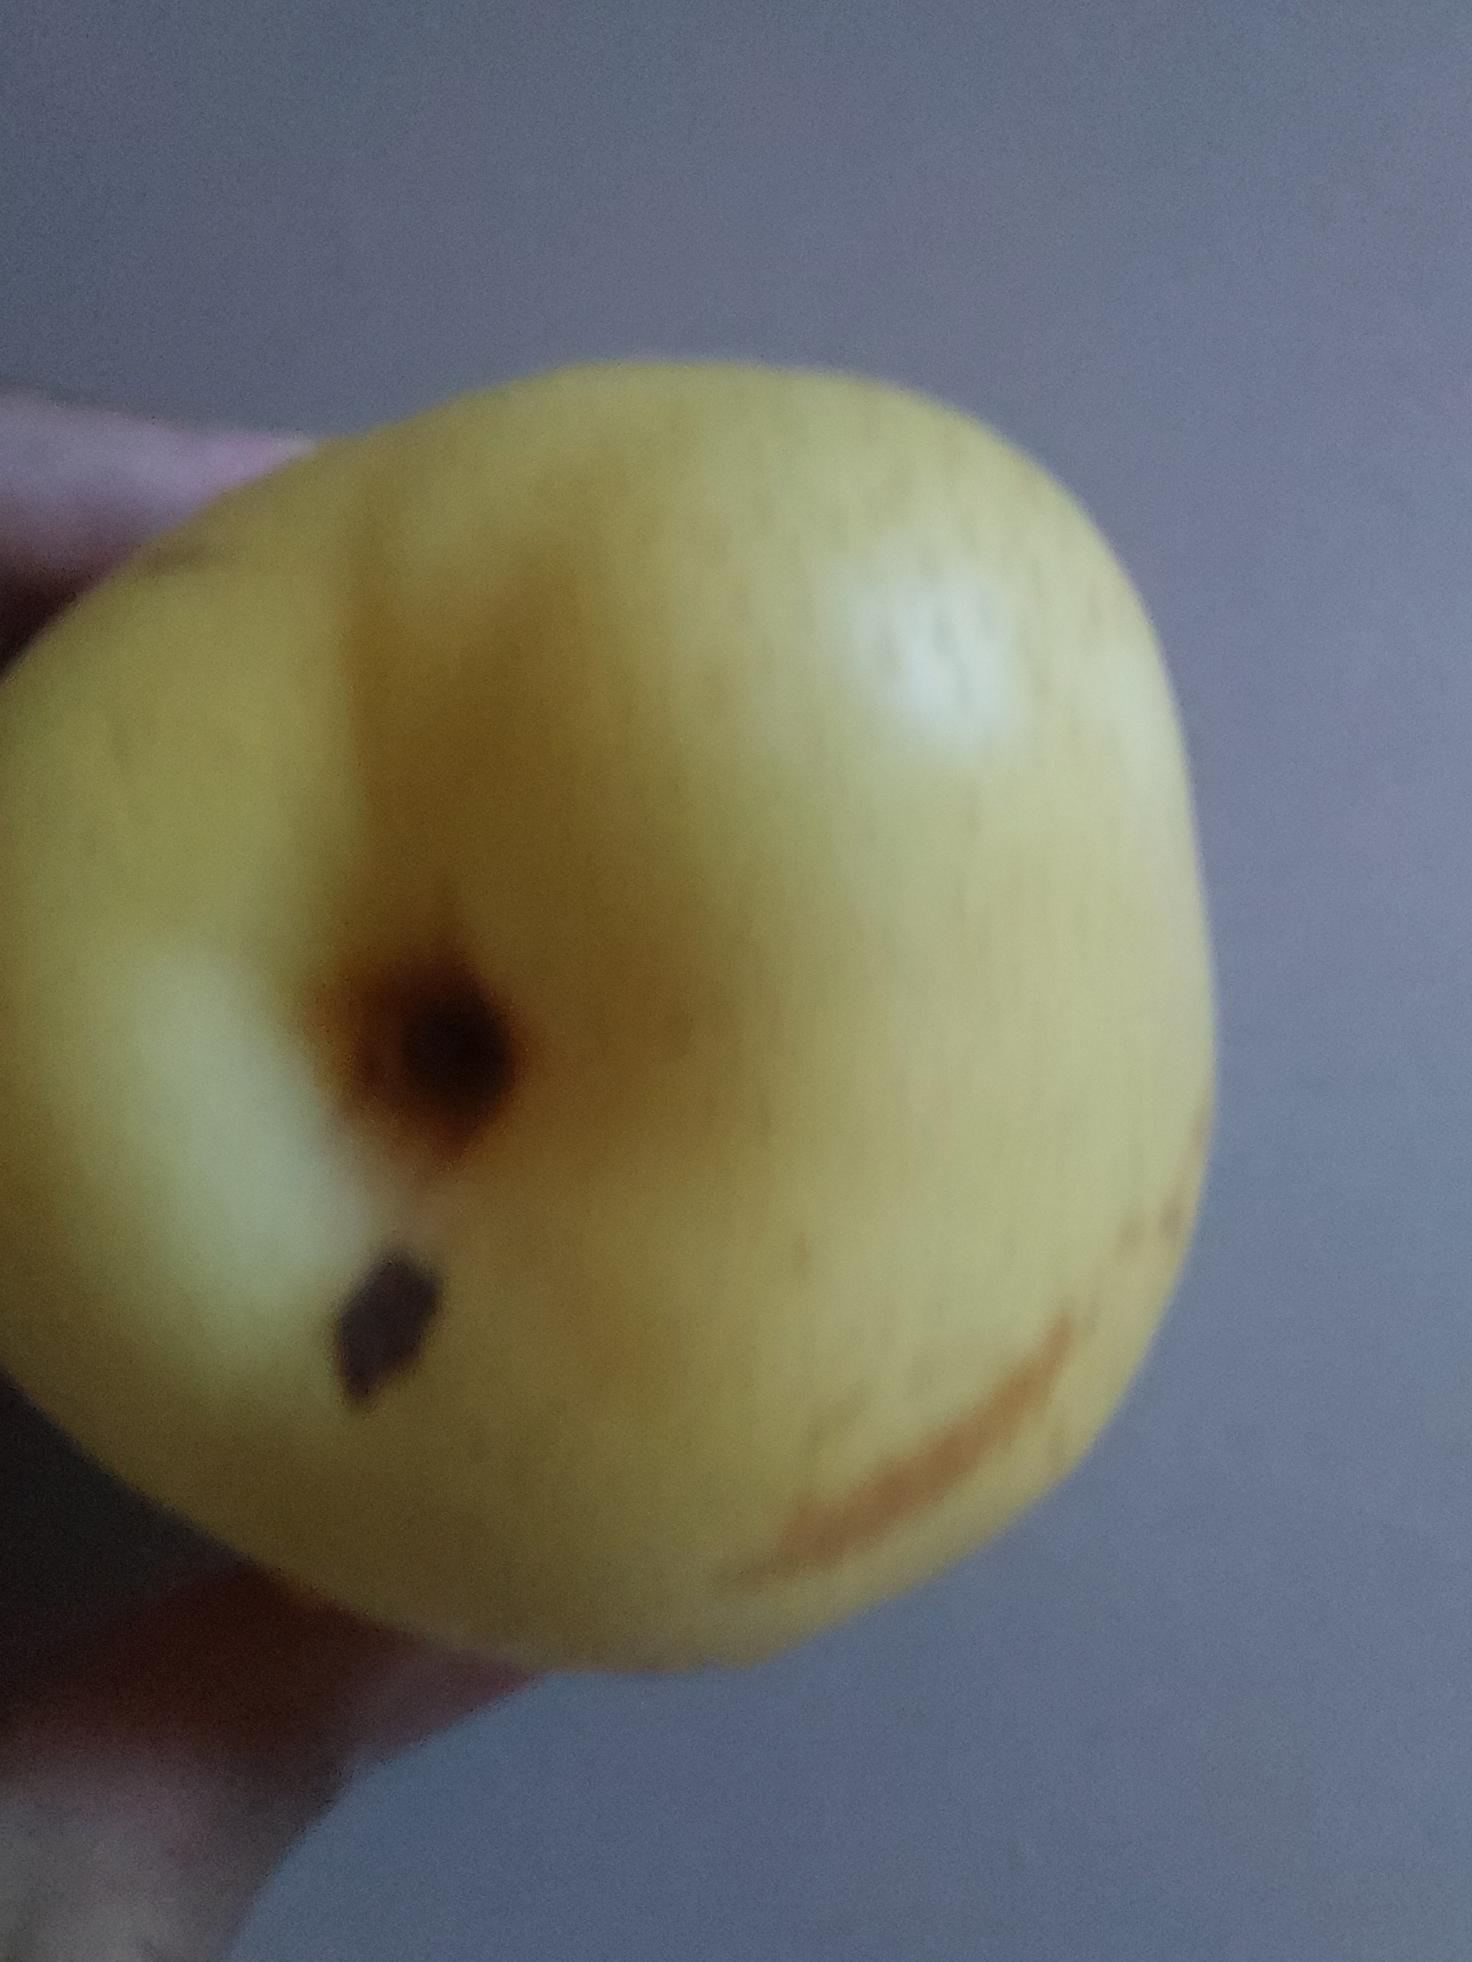Good Pear: (0, 353, 1240, 1687)
